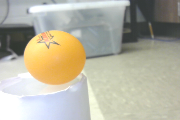PingPongBall: (25, 30, 85, 85)
